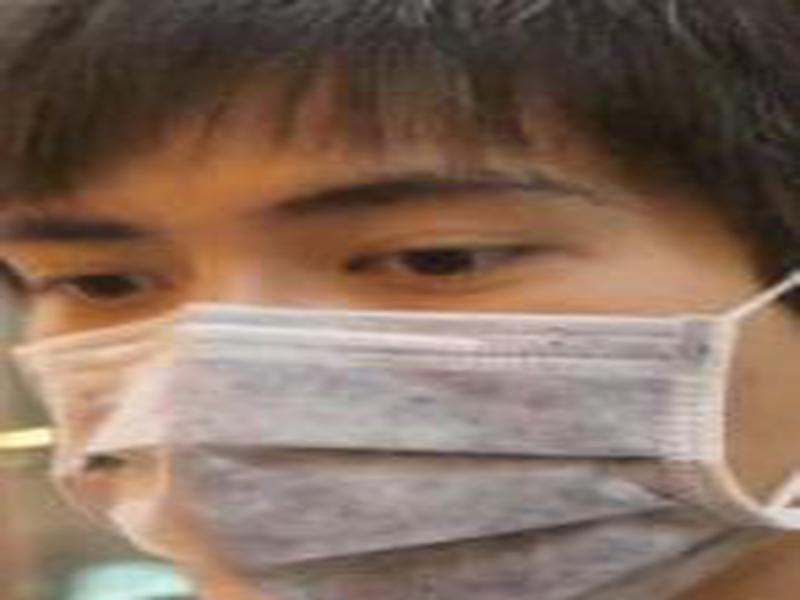with_mask: (1, 101, 795, 600)
